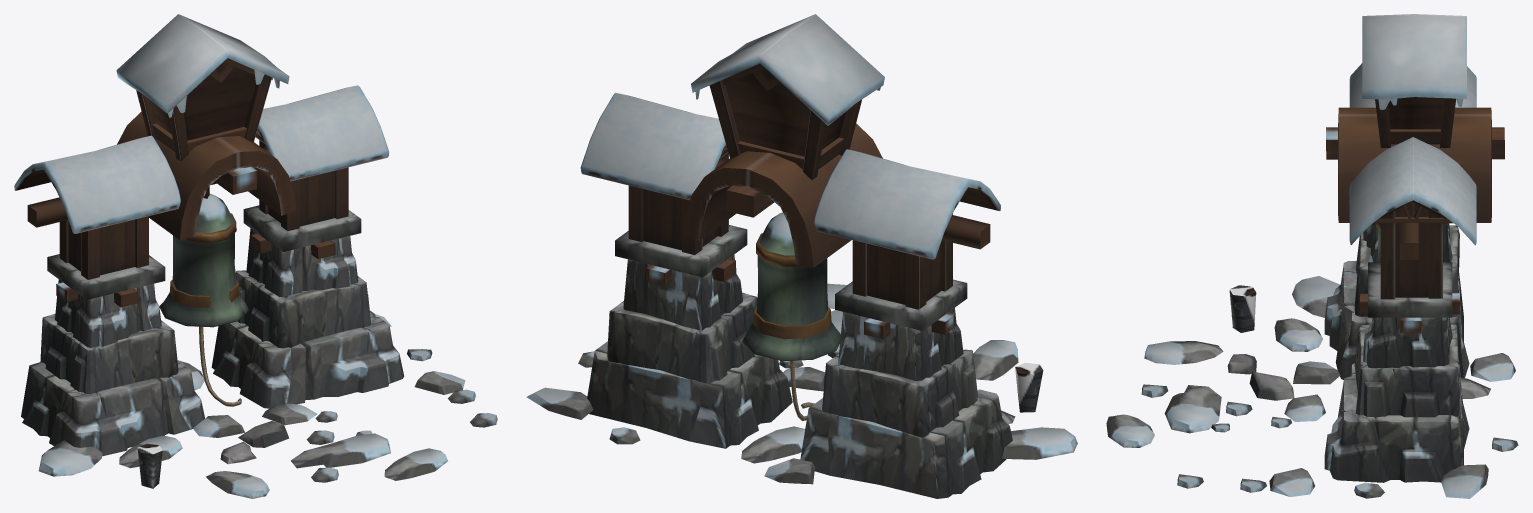
Rendered from sldmd_jianzhu_02.fbx.
The picture shows the model from 3 angles, left to right: view 1: azimuth 30°, elevation 25°; view 2: azimuth 150°, elevation 25°; view 3: azimuth 270°, elevation 25°; orthographic projection. The views are drawn at different scales.
Visible parts, largest first — view 1: sldmd_jianzhu_02; view 2: sldmd_jianzhu_02; view 3: sldmd_jianzhu_02.
Part boxes in pixels (box(x1,y1,x2,y2)): sldmd_jianzhu_02: box(14, 14, 497, 498); sldmd_jianzhu_02: box(526, 14, 1077, 498); sldmd_jianzhu_02: box(1106, 14, 1518, 498).
Bounding box in the file's own units: 1024 × 851 × 828.
